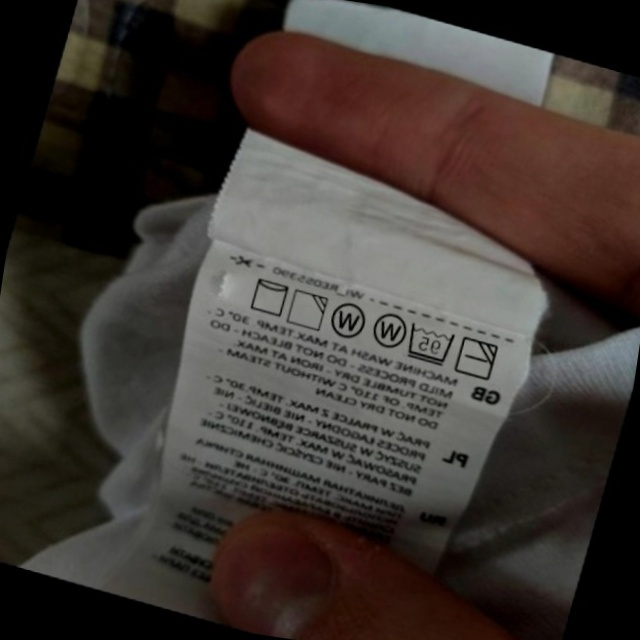95C: (400, 318, 459, 369)
dry_flat_in_shade: (452, 332, 502, 385)
line_dry: (244, 272, 294, 321)
shade_dry: (283, 285, 332, 334)
wet_clean: (324, 297, 371, 346), (366, 304, 412, 354)
